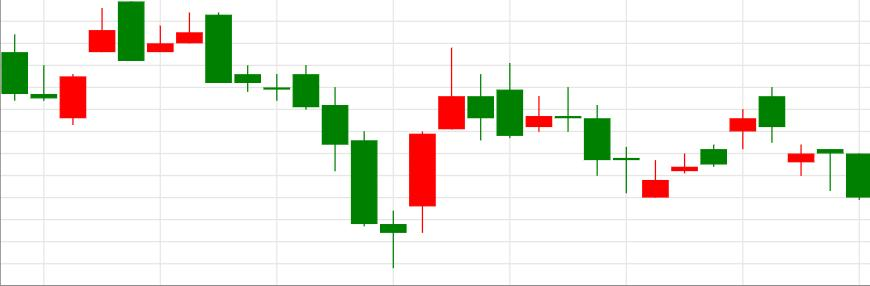morning_star_rise: (204, 12, 437, 269)
